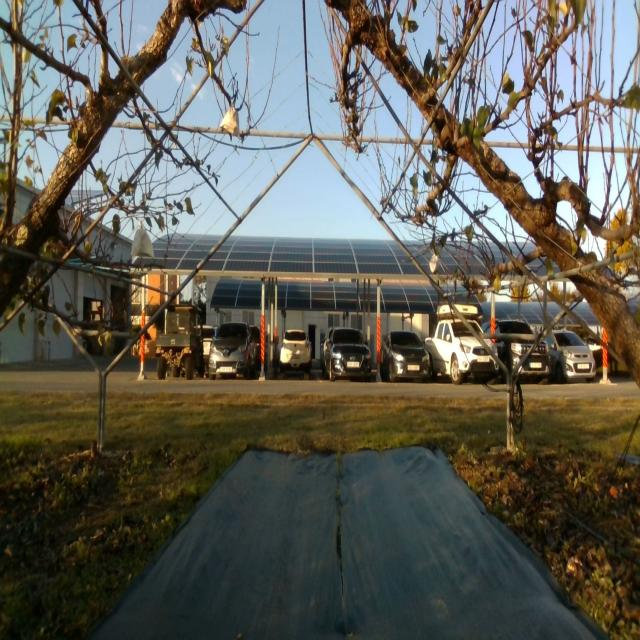pearbags: (131, 228, 154, 258), (220, 107, 239, 137), (429, 253, 439, 273)
